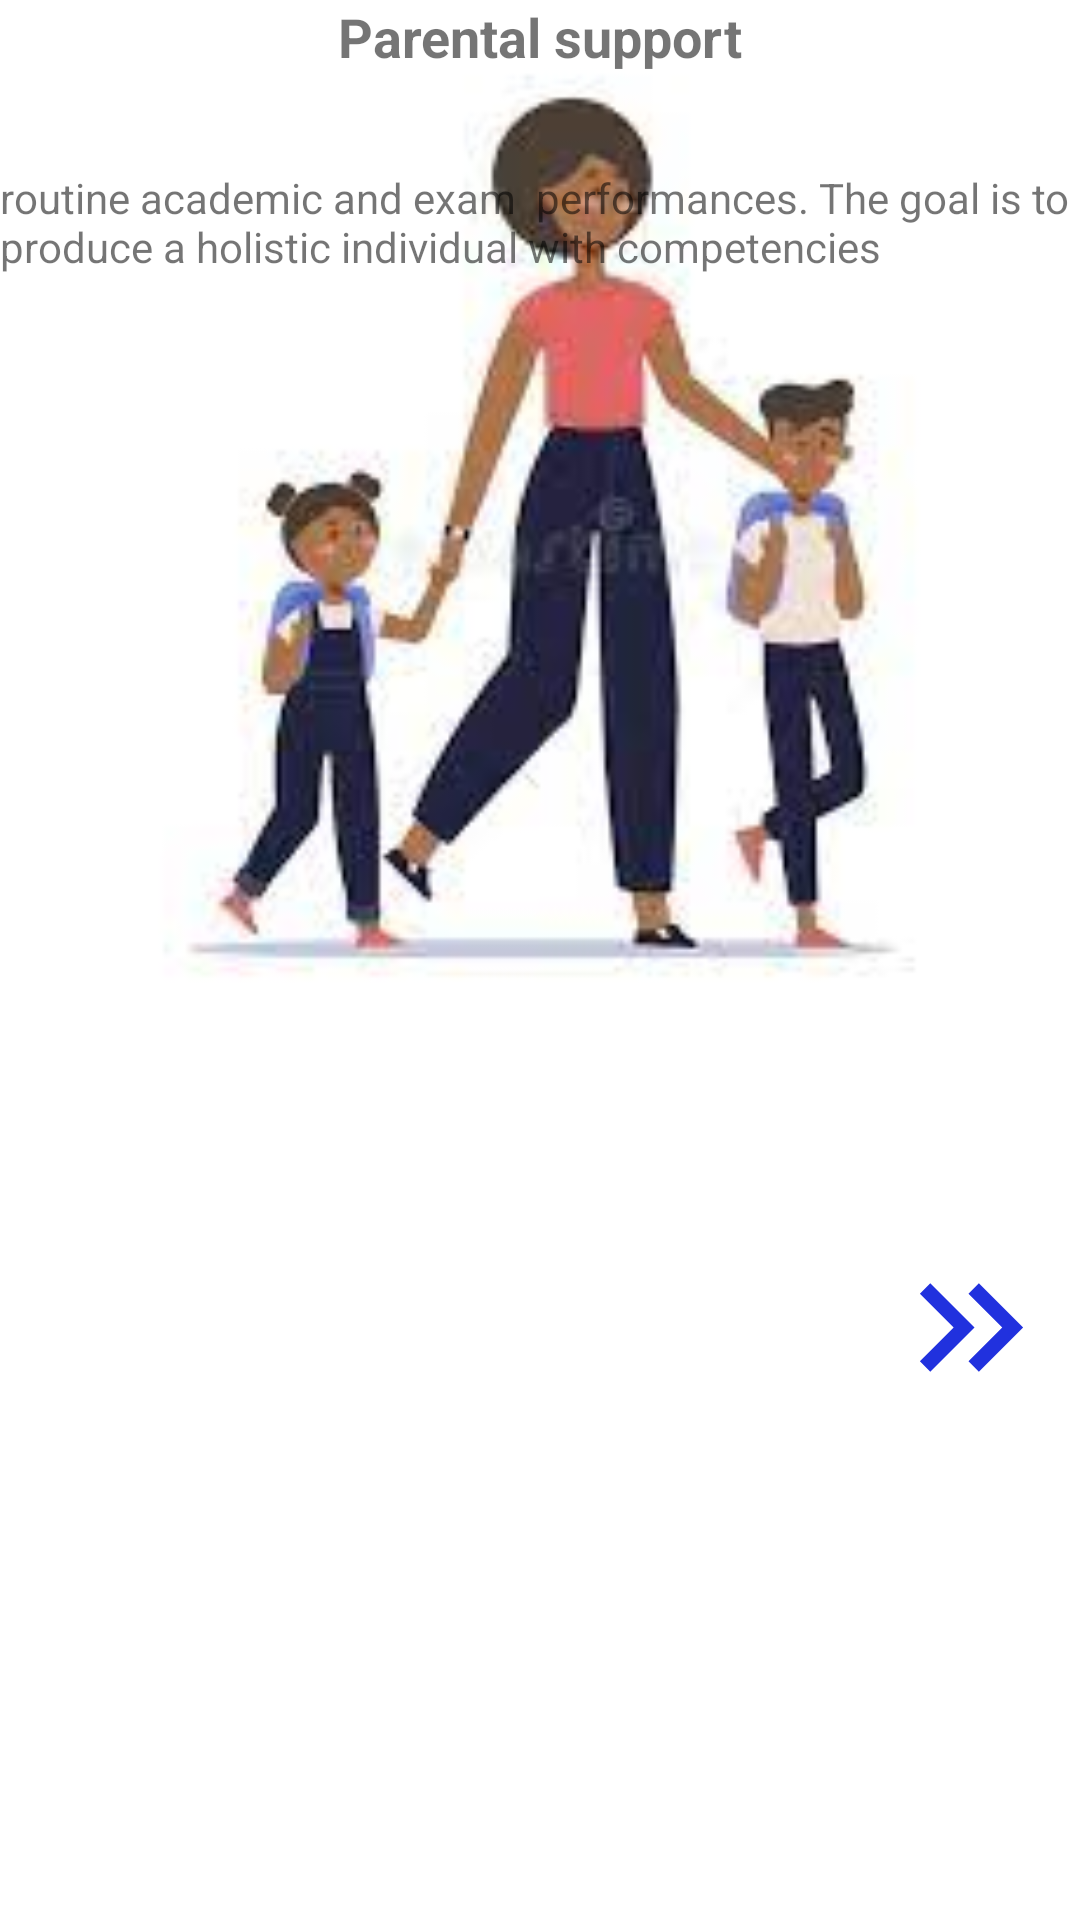

Screen size 1080×1920. Icon name, then its box in pixels as (x1, y1, x2, y2):
keyboard double arrow right: (920, 1283, 1023, 1372)
